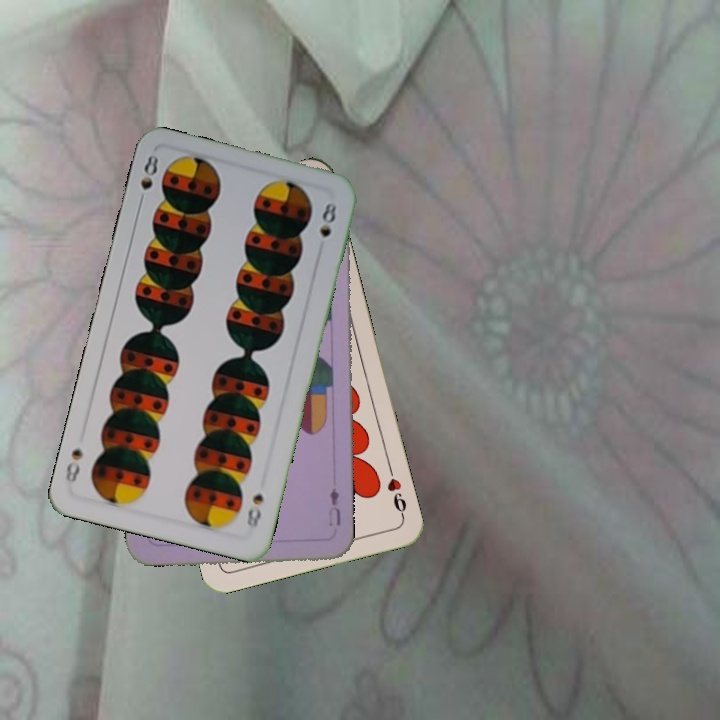EU: (324, 484, 343, 529)
H9: (383, 462, 409, 521)
S8: (134, 150, 161, 209), (242, 489, 266, 531)
